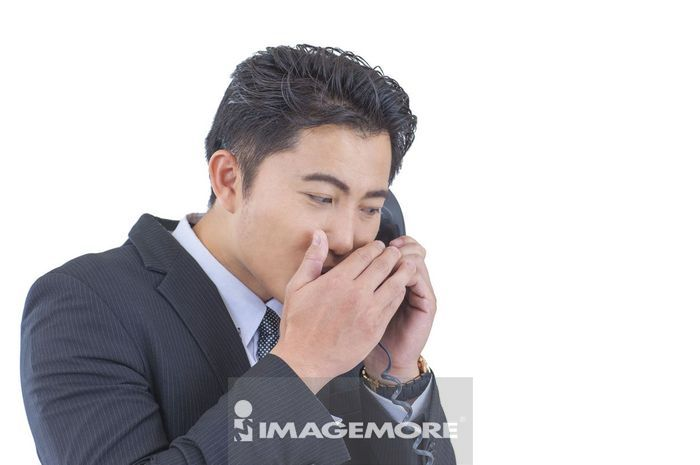phone: (372, 187, 427, 311)
talk: (275, 158, 432, 362)
